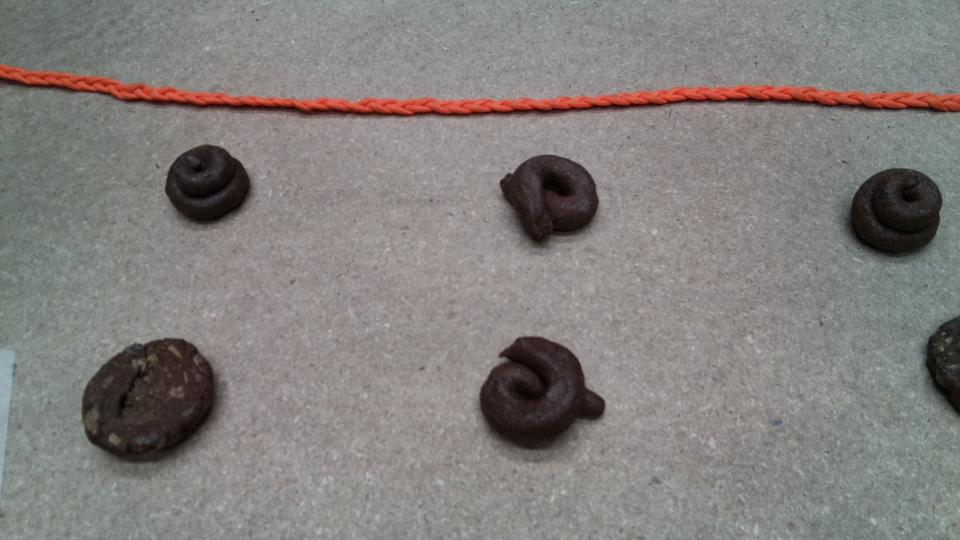poop: (73, 335, 238, 467), (474, 333, 618, 453), (489, 152, 602, 247), (840, 166, 951, 260), (159, 145, 255, 224)
rope: (1, 55, 960, 121)
